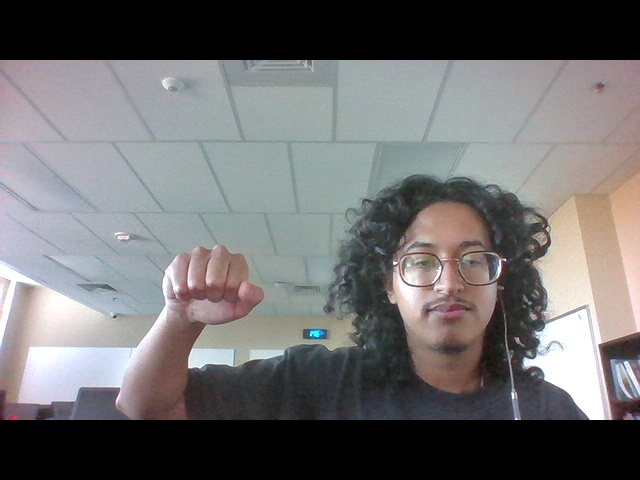yes: (141, 232, 279, 347)
